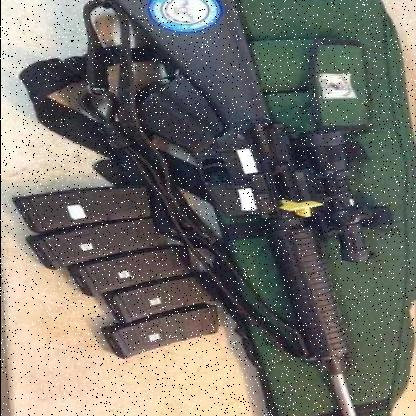rifle: (89, 0, 416, 415)
